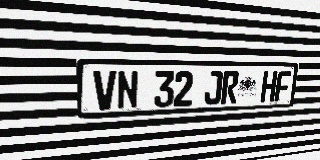2: (173, 71, 193, 107)
3: (154, 71, 174, 108)
F: (274, 71, 291, 102)
H: (260, 71, 278, 102)
J: (204, 71, 223, 105)
N: (117, 71, 139, 109)
R: (221, 71, 239, 104)
V: (93, 70, 116, 111)
